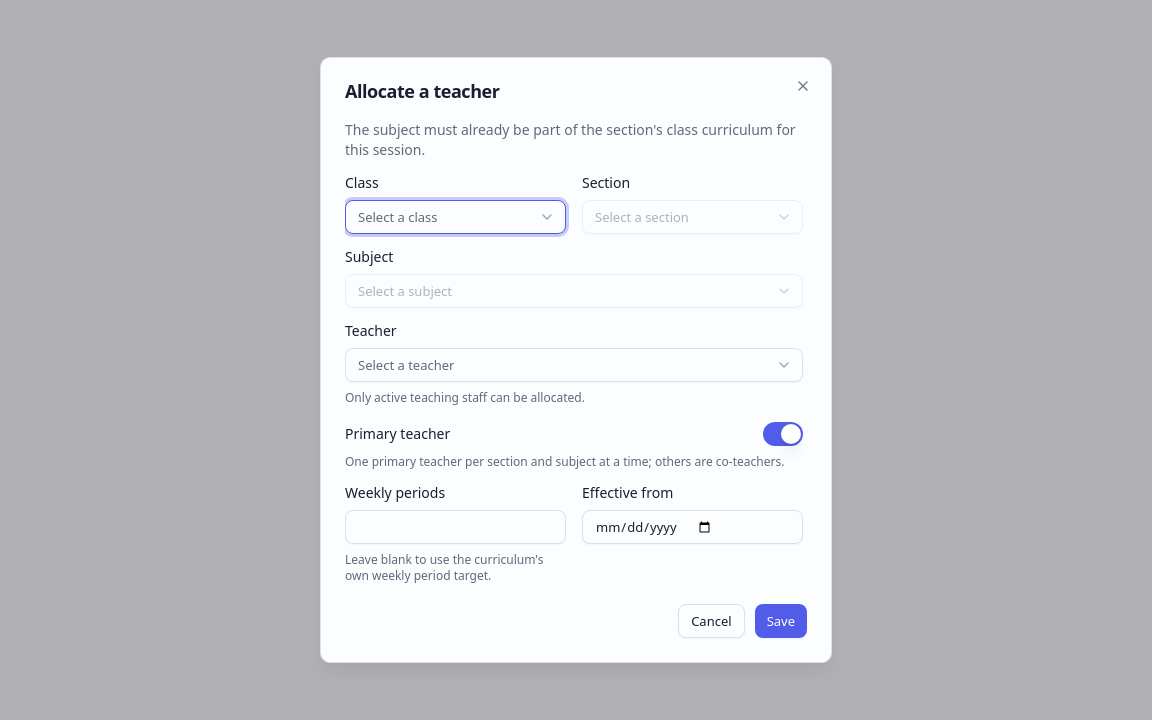
it: AllocateTeacherDialog › the fields › offers the subjects in the chosen class's curriculum for the session
The image size is (1152, 720).
Click the dropdown labelled "class" at (456, 217), box [345,200,566,234]
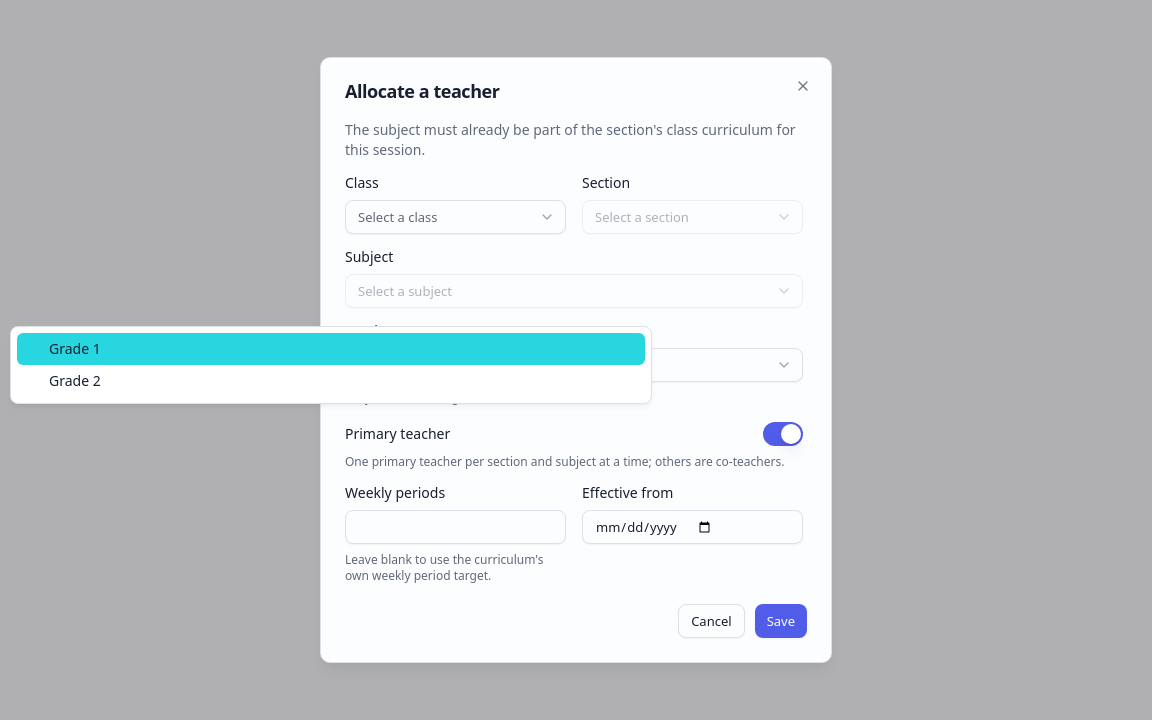
Click the option "Grade 1" at (75, 348), box [17,333,645,365]
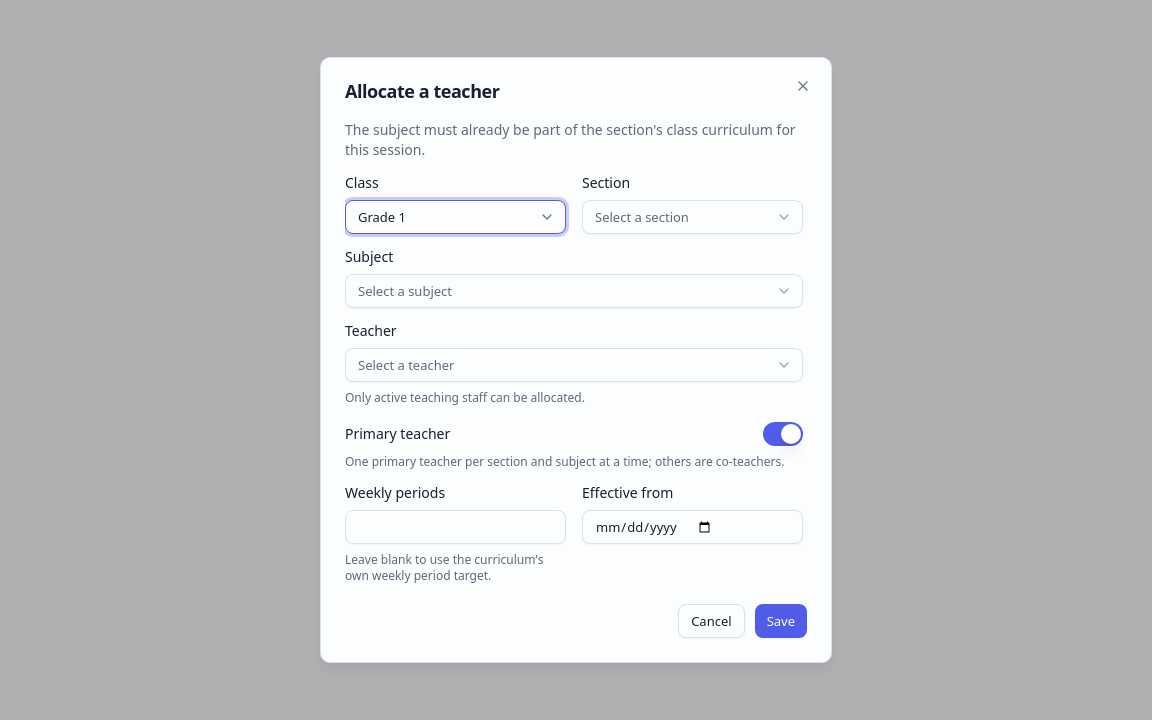
Click the dropdown labelled "subject" at (405, 291), box [345,274,803,308]
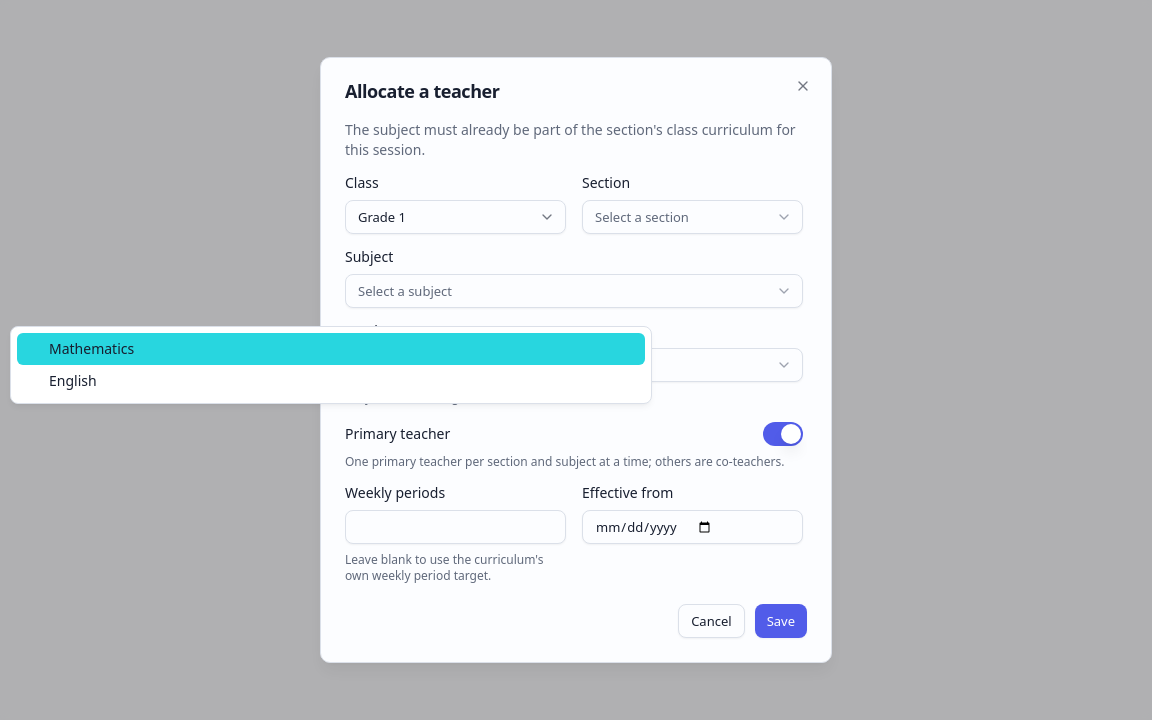
Check: the option "Mathematics" is shown, box [17,333,645,365]
Check: the option "English" is shown, box [49,371,97,390]
